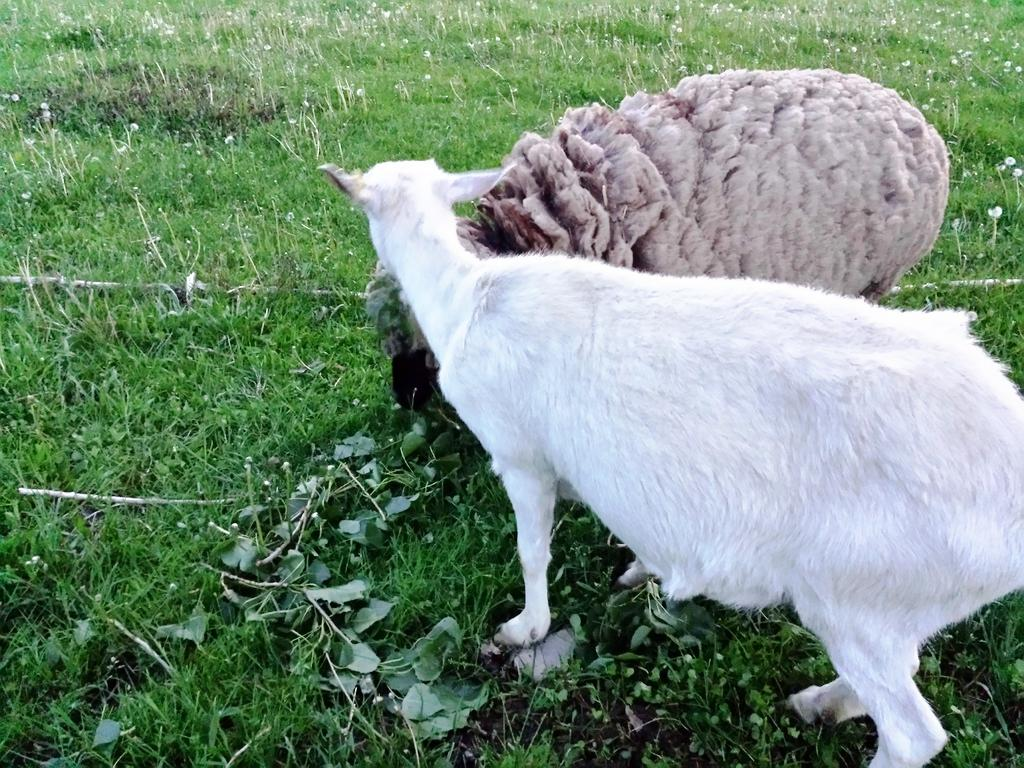Sheep: (398, 67, 954, 414)
